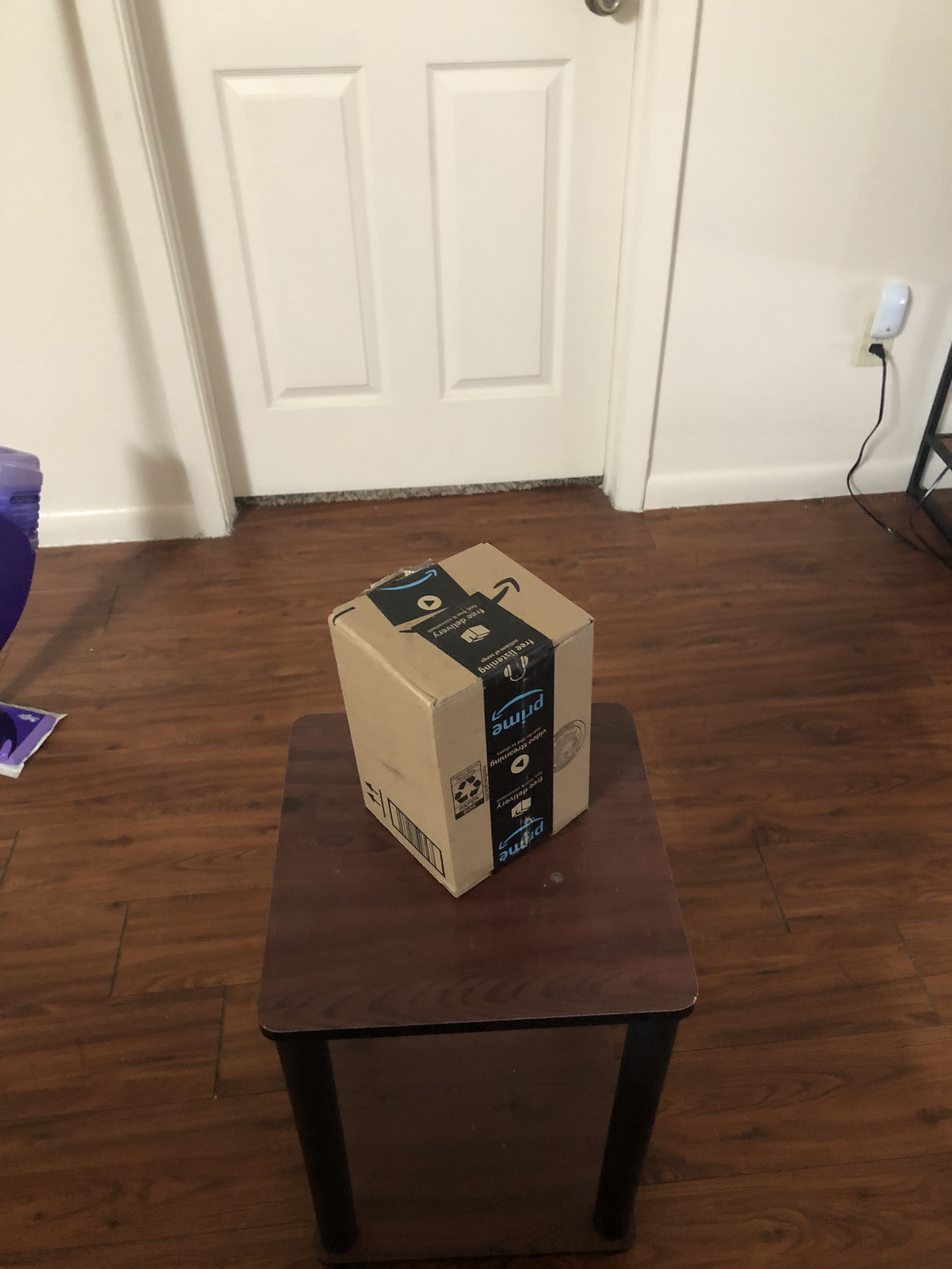package: (321, 539, 600, 904)
